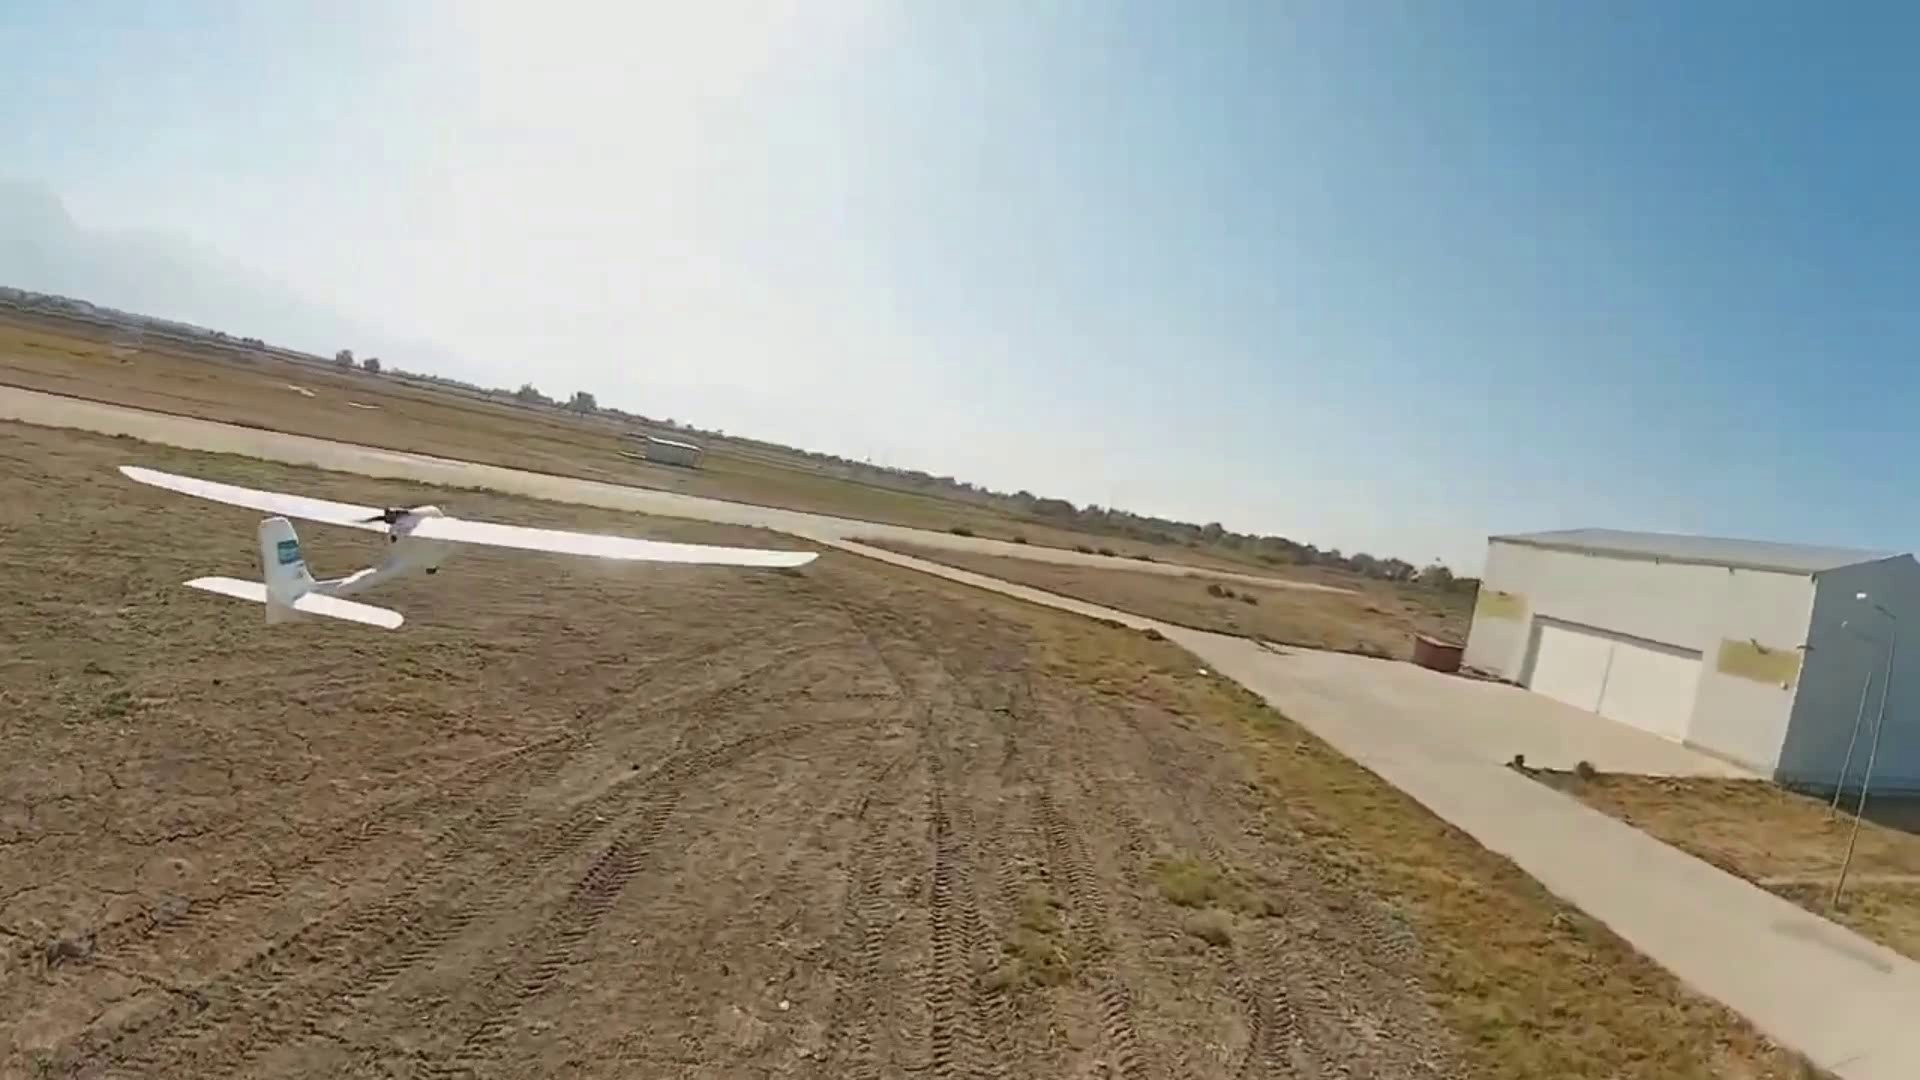airplane: (113, 462, 818, 626)
